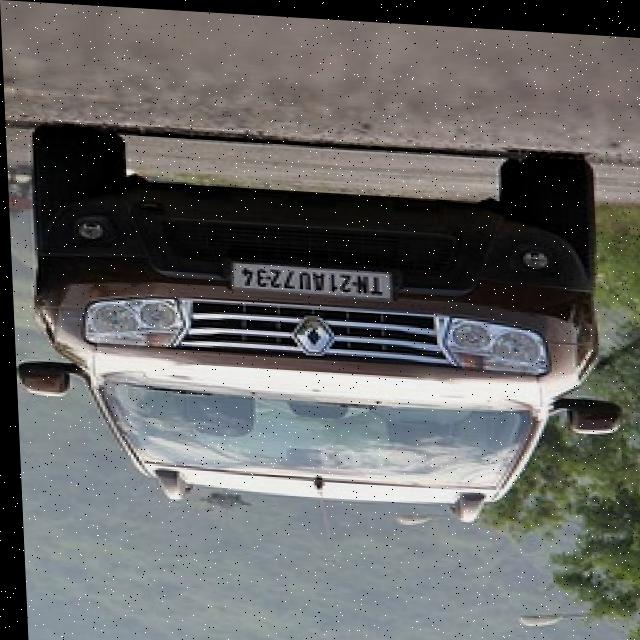plate: (228, 258, 396, 300)
